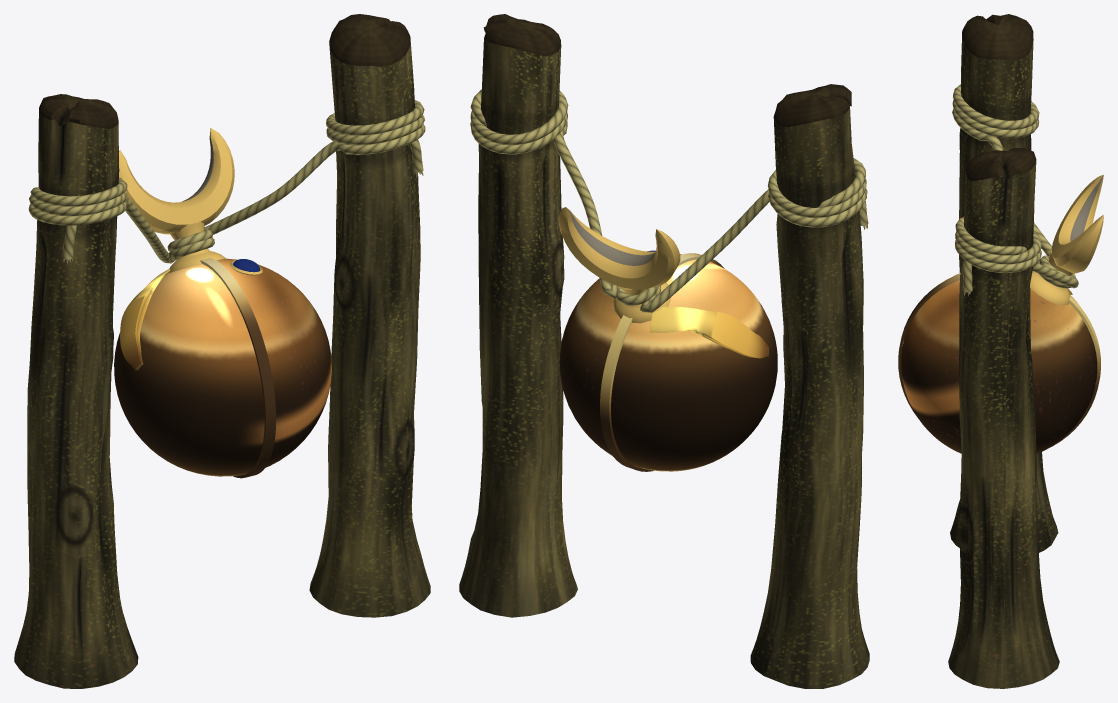
The model's file is ZONLODE.glb.
3 views of the same model, side by side, from view 1: azimuth 30°, elevation 25°; view 2: azimuth 150°, elevation 25°; view 3: azimuth 270°, elevation 25° (orthographic). The views are drawn at different scales.
Parts seen in each view (by area): view 1: post-1; view 2: post-1; view 3: post-1.
Part boxes in pixels (bbox=[...]): post-1: bbox=[14, 14, 430, 688]; post-1: bbox=[459, 14, 869, 688]; post-1: bbox=[898, 14, 1103, 688].
Bounding box in the file's own units: 3.75 × 5.12 × 1.86.
8 materials, 5 textured.
